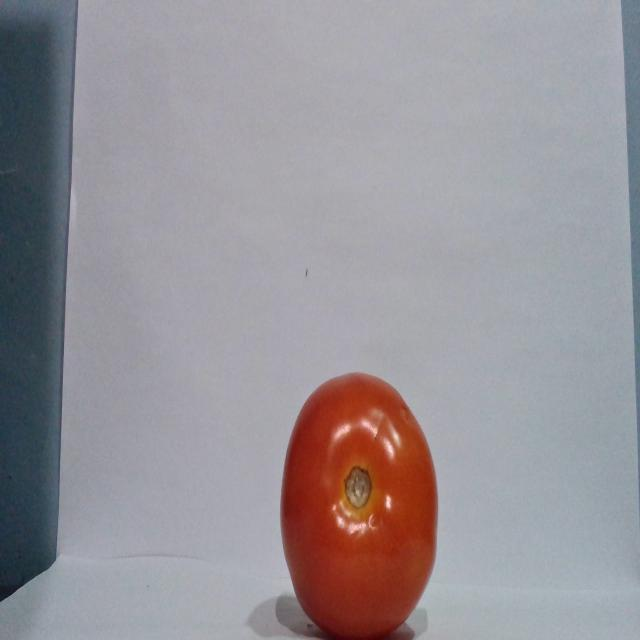Red: (278, 370, 439, 638)
